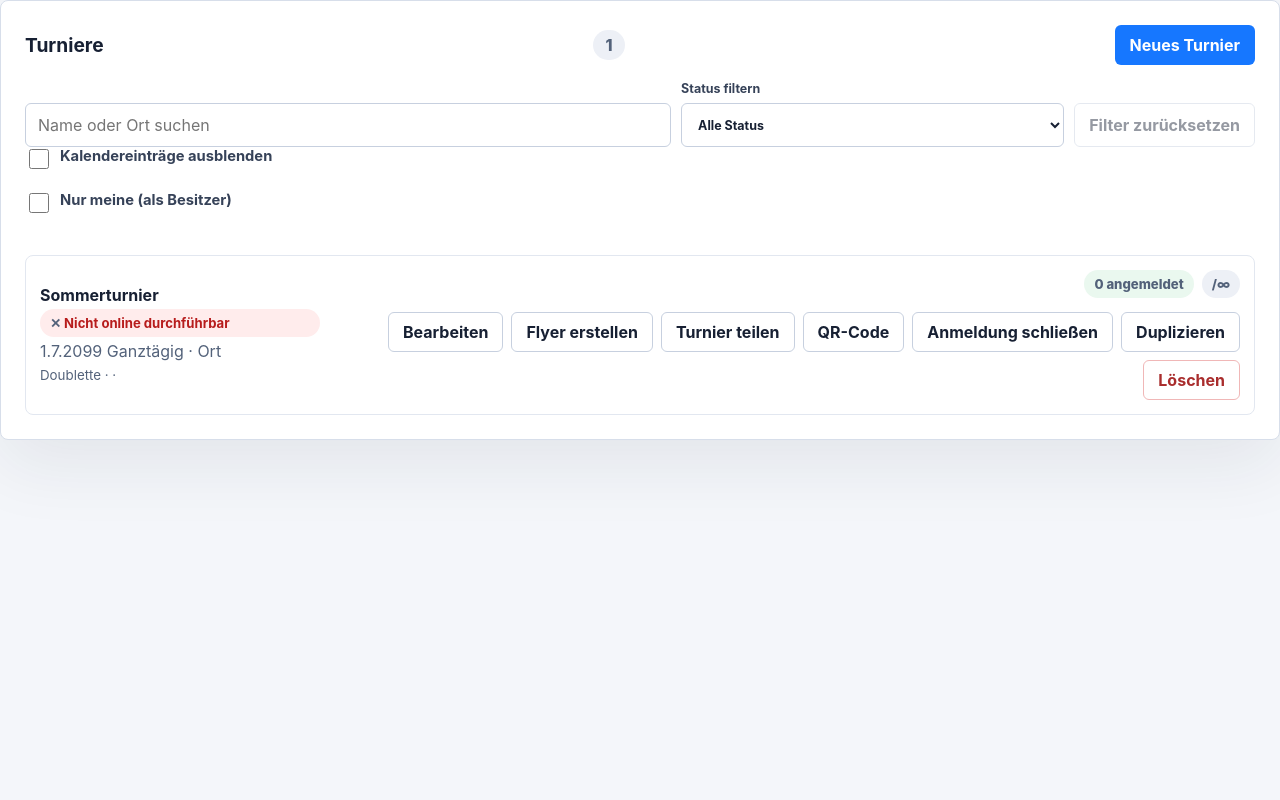
Test: Bearbeitungsrechte: Kandidatenliste › lädt für reine Bearbeiter keine Nutzerliste
Click the button "Bearbeiten" at (446, 332), box [388,312,504,352]
(page scrolled)
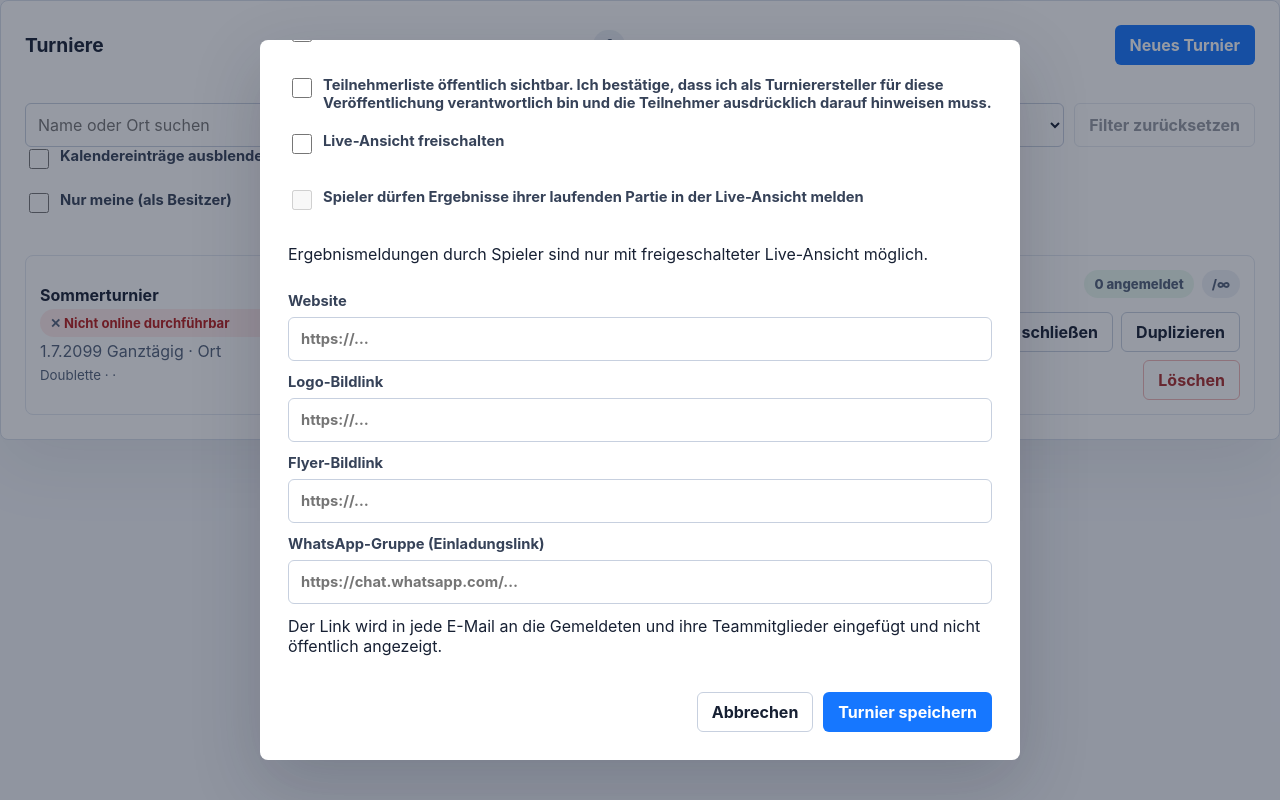
Expected: the button "Turnier speichern" is shown, [823,692,992,732]
